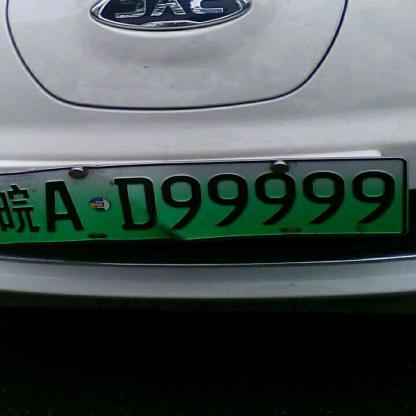lp: (2, 158, 4, 244)
